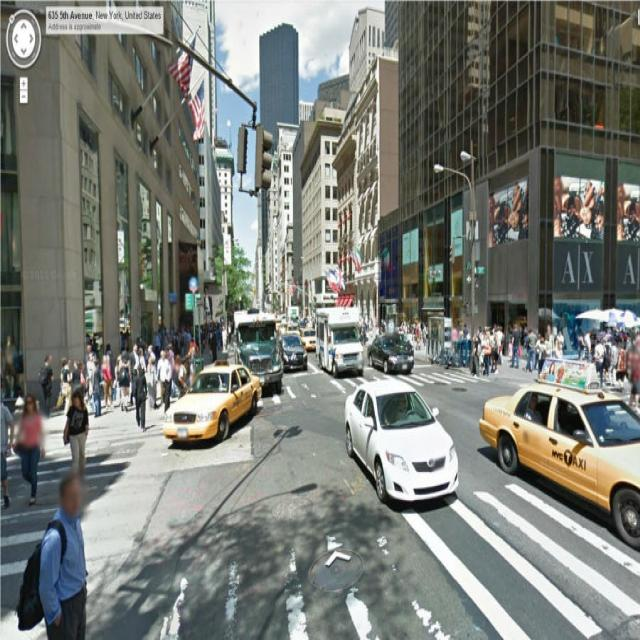body: (16, 470, 89, 638), (489, 174, 640, 248), (12, 389, 46, 508), (120, 312, 220, 350), (62, 388, 90, 476), (360, 314, 429, 348), (608, 328, 640, 390), (0, 391, 16, 510), (0, 326, 22, 394), (564, 310, 592, 362), (36, 350, 54, 419), (477, 323, 504, 365), (535, 323, 564, 359), (116, 347, 132, 411), (102, 342, 116, 411), (154, 348, 170, 403), (56, 355, 71, 411), (136, 362, 148, 432), (522, 326, 537, 375), (61, 356, 73, 416), (129, 342, 140, 406), (114, 351, 126, 407), (86, 352, 100, 398), (91, 358, 101, 418), (508, 322, 520, 368), (148, 356, 158, 411), (594, 336, 604, 391), (84, 332, 102, 361), (602, 334, 612, 386), (471, 327, 481, 378), (482, 328, 492, 378), (536, 337, 547, 377), (178, 355, 188, 398), (72, 360, 86, 387), (171, 355, 182, 387), (452, 321, 469, 341), (163, 374, 171, 416), (518, 317, 527, 346), (220, 323, 228, 353), (138, 346, 146, 374), (146, 343, 156, 364), (227, 321, 232, 346)
